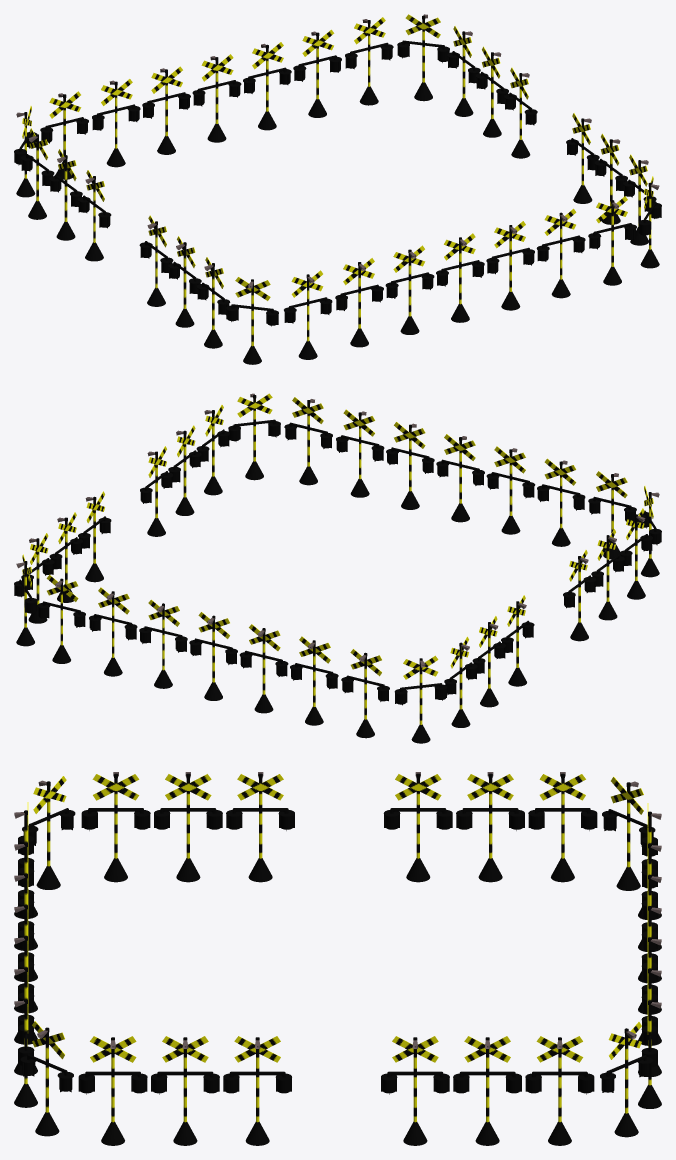
Rendered from Chukan_Keihouki.fbx.
The picture shows the model from 3 angles, top to bottom: view 1: azimuth 30°, elevation 25°; view 2: azimuth 150°, elevation 25°; view 3: azimuth 270°, elevation 25°; orthographic projection. The views are drawn at different scales.
Parts seen in each view (by area): view 1: polySurface1; view 2: polySurface1; view 3: polySurface1.
Part boxes in pixels (<box>): polySurface1: <box>14,14,661,364</box>; polySurface1: <box>14,393,661,743</box>; polySurface1: <box>14,772,661,1145</box>.
Bounding box in the file's own units: 1972 × 349 × 1972.
5 materials, 2 textured.
